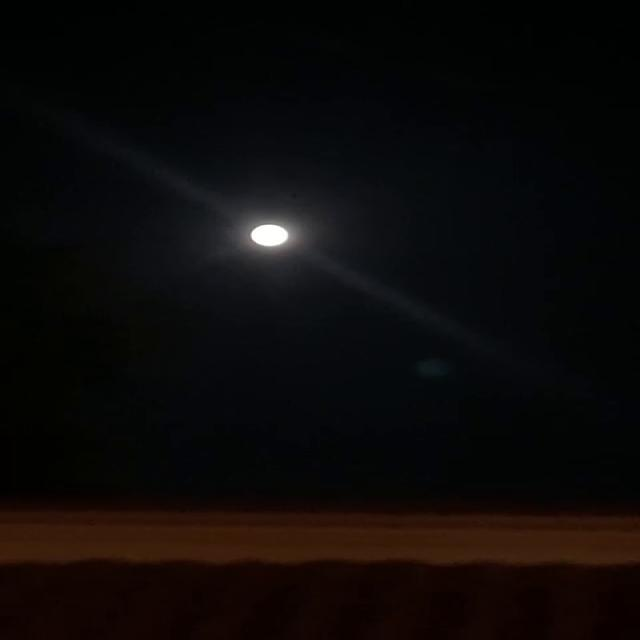moon: (242, 219, 294, 250)
